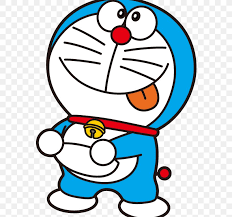doraemon: (35, 1, 198, 217)
